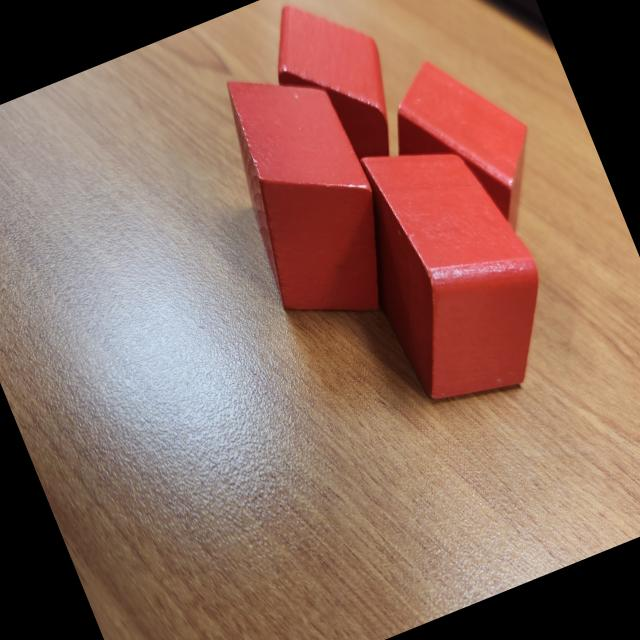red: (328, 110, 576, 420), (196, 45, 417, 344), (367, 30, 564, 266), (250, 0, 419, 188)
